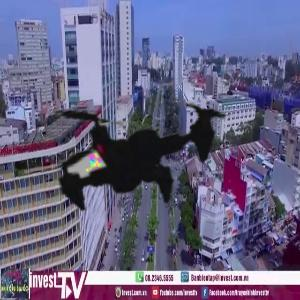drone: (1, 7, 270, 276)
